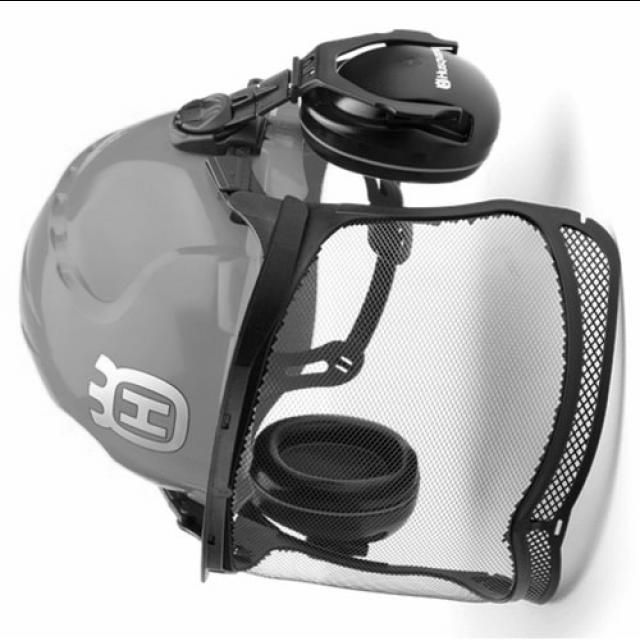safety_helmet: (19, 101, 433, 532)
